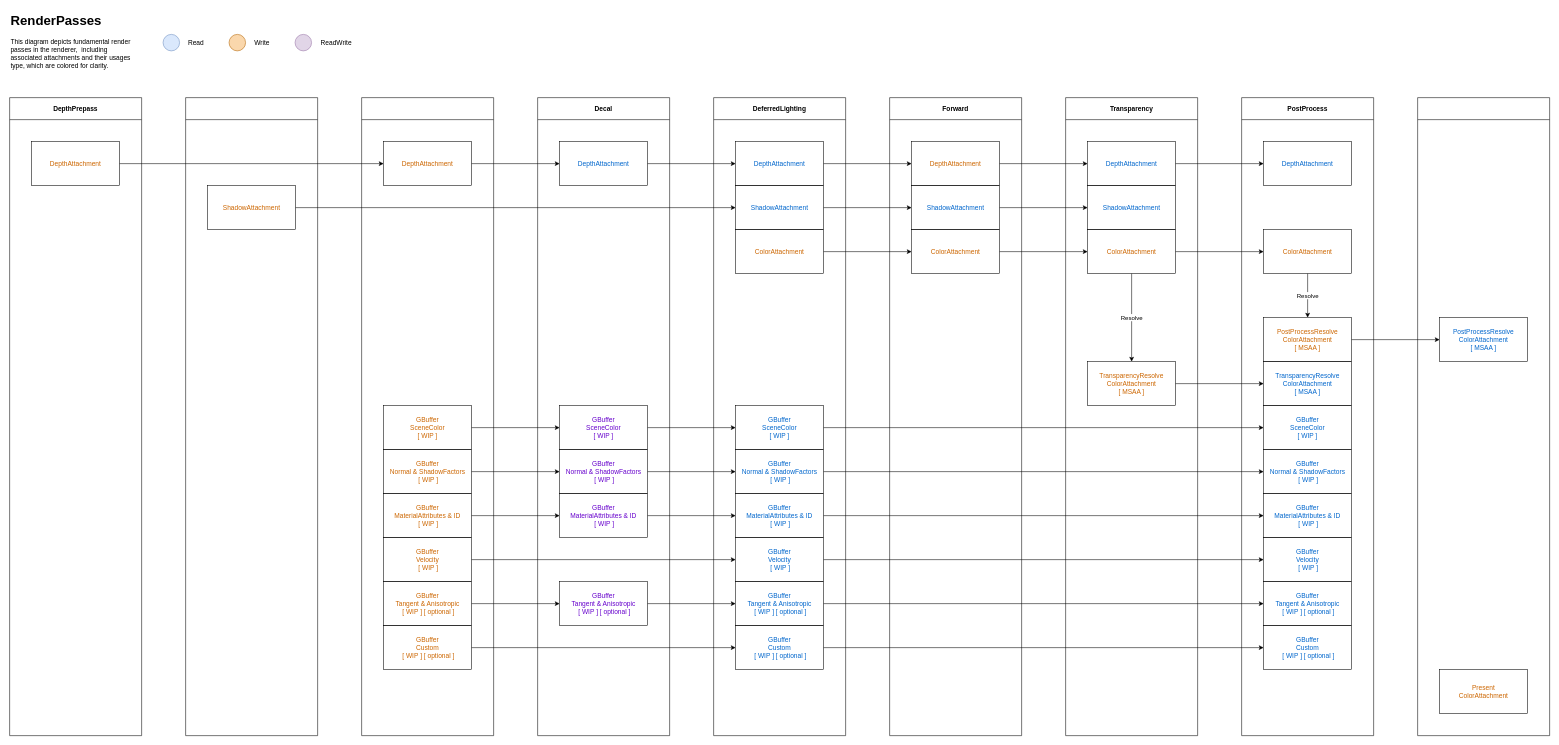
The diagram is 1559 pixels wide and 745 high, and some of its shapes have lost their labels. Here are the shapes that lost their labels. From the top down, the box of each, then its label:
(185, 97, 318, 736): Shadow
(361, 97, 494, 736): DeferredGeometry
(1417, 97, 1550, 736): UserInterface
